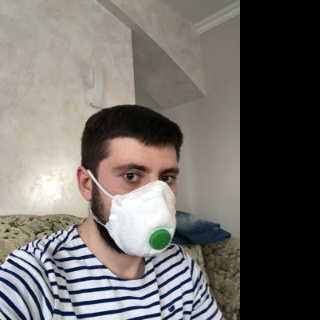with_mask: (105, 152, 177, 258)
